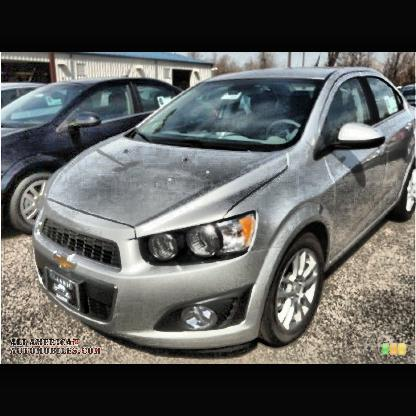Chevrolet Sonic Sedan 2012: (33, 68, 416, 356)
